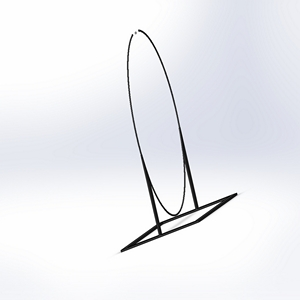circle: (112, 28, 238, 251)
